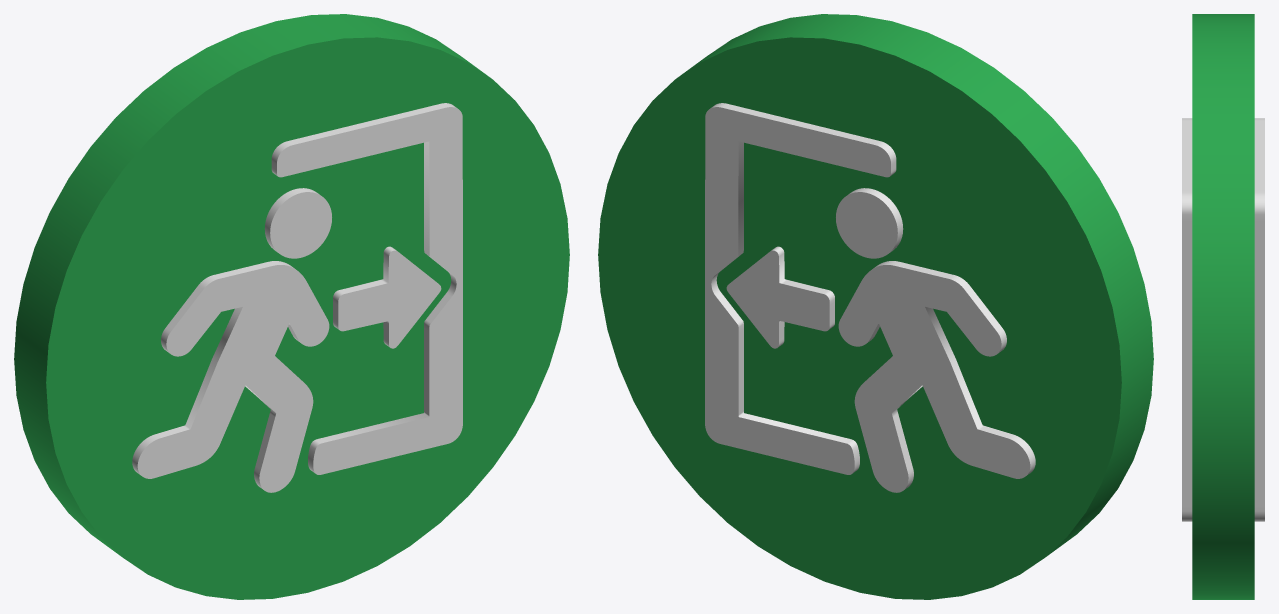
The model's file is RUTA_EVACUACION-ICONO.fbx.
3 views of the same model, side by side, from view 1: azimuth 30°, elevation 25°; view 2: azimuth 150°, elevation 25°; view 3: azimuth 270°, elevation 25° (orthographic). The views are drawn at different scales.
Visible parts, largest first — view 1: RUTA DE EVACUACION; view 2: RUTA DE EVACUACION; view 3: RUTA DE EVACUACION.
Boxes of the visible parts, left/top/right/bottom form: RUTA DE EVACUACION: left=14, top=14, right=569, bottom=599; RUTA DE EVACUACION: left=598, top=14, right=1153, bottom=599; RUTA DE EVACUACION: left=1182, top=14, right=1264, bottom=599.
Size of the model in its own units: 197 by 197 by 27.8.
